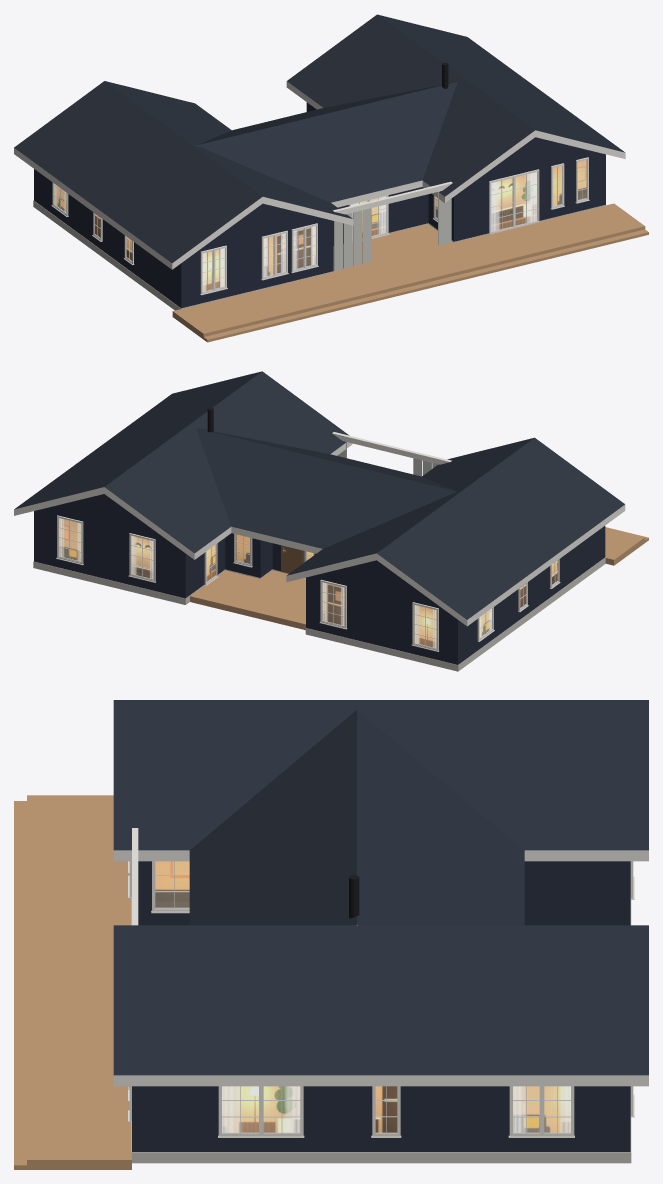
File: teder224_c0_p1_m1.glb
3 views of the same model, one above another, from view 1: azimuth 30°, elevation 25°; view 2: azimuth 150°, elevation 25°; view 3: azimuth 270°, elevation 25° (orthographic). The views are drawn at different scales.
Parts seen in each view (by area): view 1: roof, deck, wall, fascia, room, frame, glass, sheer, panel, plinth; view 2: roof, wall, fascia, deck, room, glass, plinth, frame, sheer, door; view 3: roof, deck, wall, fascia, room, glass, plinth, frame, sheer.
Part boxes in pixels (x1,y1,x2,y2): roof: [14, 14, 624, 263]; deck: [172, 203, 648, 342]; wall: [34, 102, 605, 308]; fascia: [14, 81, 625, 269]; room: [55, 160, 586, 290]; frame: [51, 157, 589, 295]; glass: [54, 160, 586, 290]; sheer: [54, 172, 536, 291]; panel: [334, 191, 451, 270]; plinth: [33, 200, 606, 310]; roof: [14, 371, 624, 619]; wall: [34, 494, 605, 664]; fascia: [14, 432, 625, 626]; deck: [190, 527, 648, 629]; room: [60, 519, 557, 647]; glass: [59, 518, 556, 647]; plinth: [33, 557, 605, 671]; frame: [56, 515, 560, 651]; sheer: [59, 518, 491, 647]; door: [281, 545, 303, 573]; roof: [113, 700, 648, 1075]; deck: [14, 795, 131, 1169]; wall: [132, 861, 630, 1151]; fascia: [113, 828, 648, 1086]; room: [155, 861, 570, 1132]; glass: [156, 862, 570, 1132]; plinth: [131, 898, 631, 1163]; frame: [128, 861, 634, 1137]; sheer: [222, 1086, 570, 1132].
Size of the model in its own units: 21.93 by 5.66 by 15.72.
14 materials, 6 textured.
